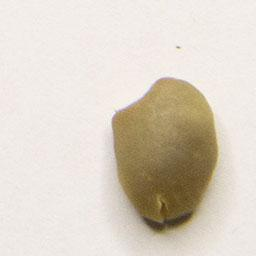defect: (108, 73, 224, 231)
